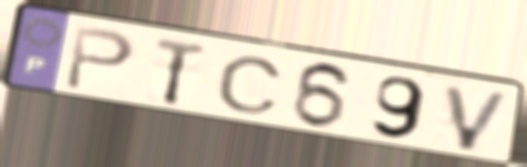6: (291, 61, 360, 132)
9: (369, 75, 428, 141)
C: (214, 54, 287, 115)
P: (61, 23, 138, 94)
T: (152, 35, 210, 108)
V: (441, 81, 516, 155)
